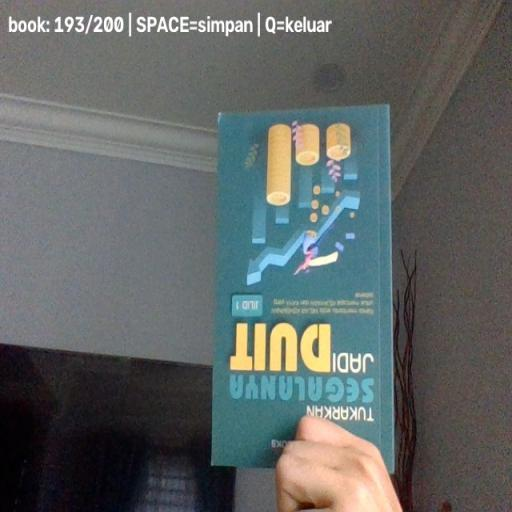Book: (212, 104, 394, 472)
